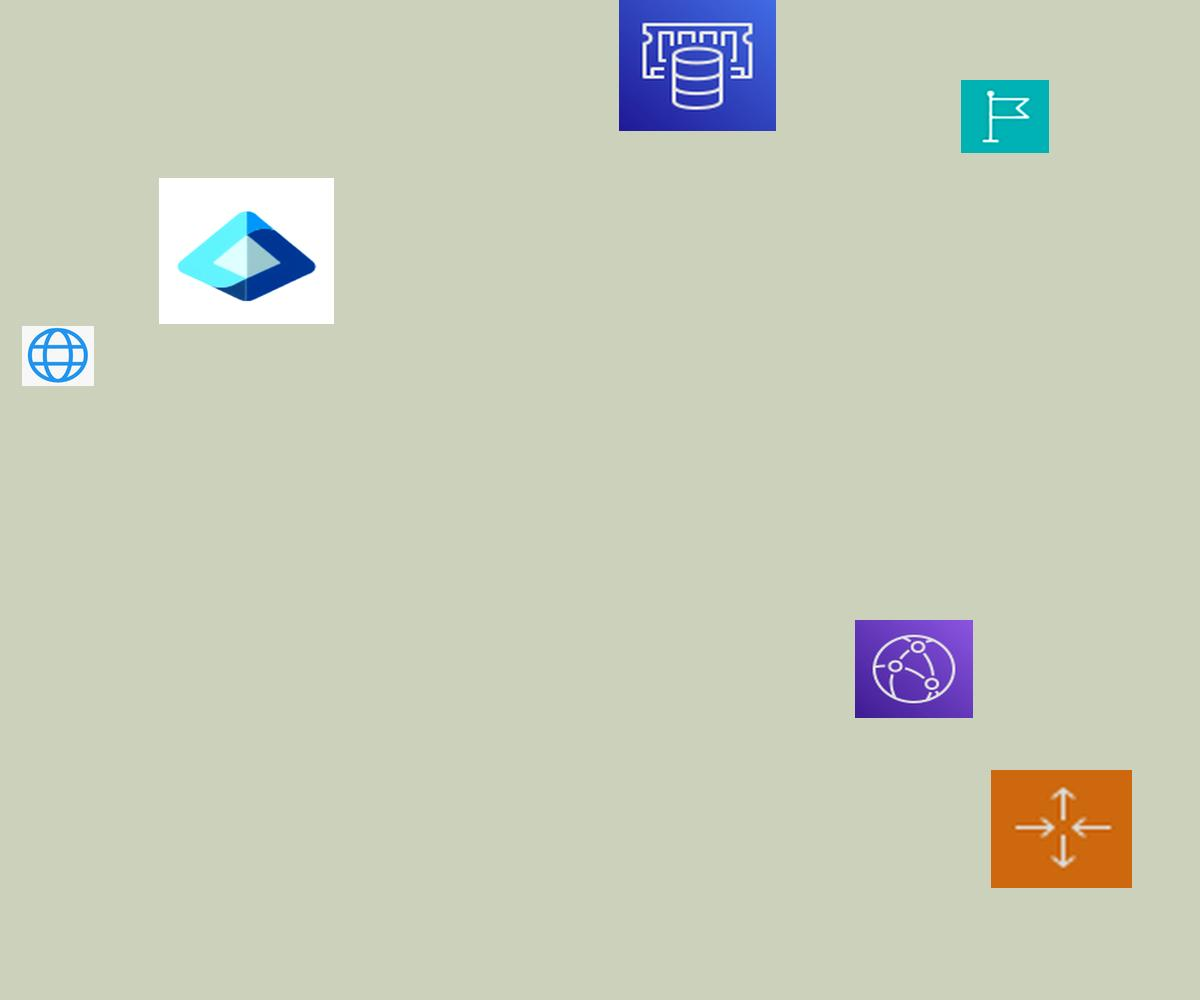AWS-CloudFront: (855, 620, 973, 718)
AWS-ElastiCache: (619, 0, 776, 131)
AWS-Region: (961, 80, 1049, 153)
AWS-Scaling-group: (991, 770, 1132, 888)
Azure_http: (22, 326, 94, 386)
Azure_microsoft_entra: (159, 178, 334, 324)
